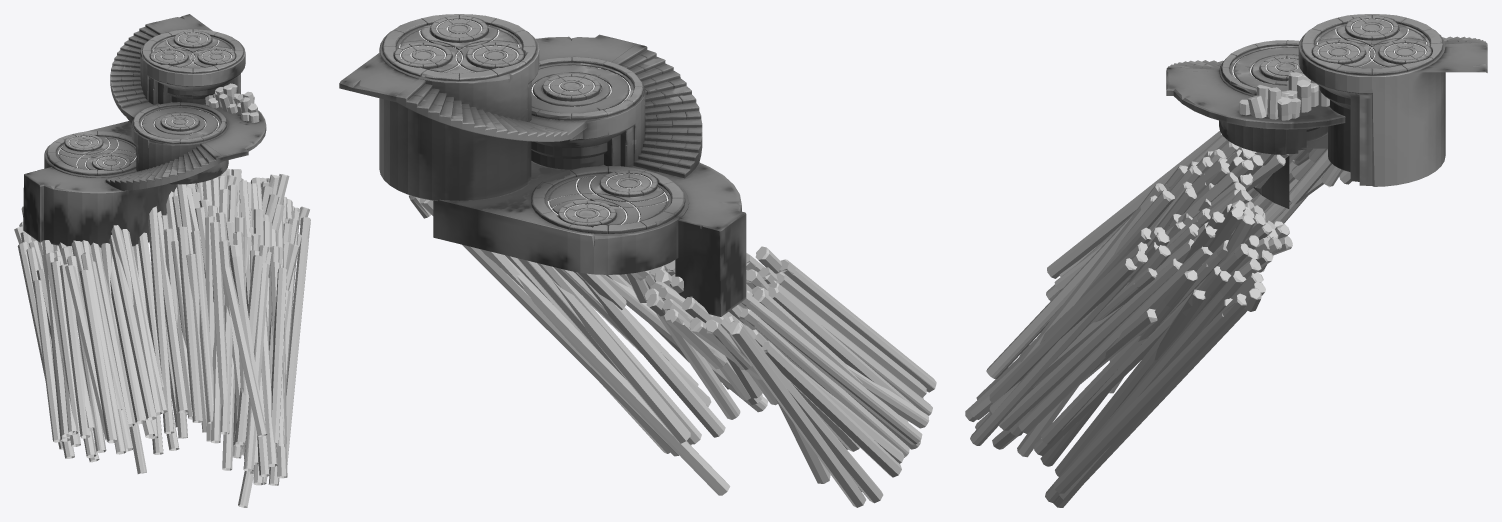
The model's file is Merchant.fbx.
3 renders of one model, left to right at view 1: azimuth 30°, elevation 25°; view 2: azimuth 150°, elevation 25°; view 3: azimuth 270°, elevation 25°, orthographic. The views are drawn at different scales.
Visible parts, largest first — view 1: SM_WaterPlane_03.mo, SM_Merchant_Platform_02.mo, SM_Merchant_Platform_03.mo, SM_Merchant_Platform_01.mo, SM_Merchant_Platform_03_Circle.mo, SM_Merchant_Platform_02_Circle.mo, SM_Merchant_Platform_01_Circle.mo, SM_Waterfall_Rocks_Small_01.mo, SM_Waterfall_Rocks_Small_02.mo; view 2: SM_WaterPlane_03.mo, SM_Merchant_Platform_03.mo, SM_Merchant_Platform_02.mo, SM_Merchant_Platform_01.mo, SM_Merchant_Platform_02_Circle.mo, SM_Merchant_Platform_03_Circle.mo, SM_Merchant_Platform_01_Circle.mo; view 3: SM_WaterPlane_03.mo, SM_Merchant_Platform_03.mo, SM_Merchant_Platform_01.mo, SM_Merchant_Platform_03_Circle.mo, SM_Merchant_Platform_01_Circle.mo, SM_Waterfall_Rocks_Small_02.mo, SM_Merchant_Platform_02.mo, SM_Waterfall_Rocks_Small_01.mo.
Part boxes in pixels (left/top/right/bottom): SM_WaterPlane_03.mo: left=14, top=168, right=310, bottom=507; SM_Merchant_Platform_02.mo: left=23, top=121, right=176, bottom=247; SM_Merchant_Platform_03.mo: left=110, top=14, right=245, bottom=123; SM_Merchant_Platform_01.mo: left=105, top=102, right=266, bottom=190; SM_Merchant_Platform_03_Circle.mo: left=142, top=29, right=243, bottom=73; SM_Merchant_Platform_02_Circle.mo: left=46, top=131, right=136, bottom=175; SM_Merchant_Platform_01_Circle.mo: left=133, top=102, right=226, bottom=143; SM_Waterfall_Rocks_Small_01.mo: left=205, top=83, right=240, bottom=113; SM_Waterfall_Rocks_Small_02.mo: left=236, top=91, right=259, bottom=122; SM_WaterPlane_03.mo: left=409, top=195, right=936, bottom=507; SM_Merchant_Platform_03.mo: left=339, top=30, right=587, bottom=200; SM_Merchant_Platform_02.mo: left=433, top=161, right=746, bottom=316; SM_Merchant_Platform_01.mo: left=531, top=34, right=702, bottom=178; SM_Merchant_Platform_02_Circle.mo: left=531, top=166, right=685, bottom=233; SM_Merchant_Platform_03_Circle.mo: left=382, top=14, right=536, bottom=81; SM_Merchant_Platform_01_Circle.mo: left=531, top=56, right=643, bottom=120; SM_WaterPlane_03.mo: left=965, top=131, right=1351, bottom=507; SM_Merchant_Platform_03.mo: left=1298, top=29, right=1487, bottom=186; SM_Merchant_Platform_01.mo: left=1166, top=60, right=1345, bottom=154; SM_Merchant_Platform_03_Circle.mo: left=1301, top=14, right=1442, bottom=75; SM_Merchant_Platform_01_Circle.mo: left=1221, top=40, right=1315, bottom=95; SM_Waterfall_Rocks_Small_02.mo: left=1239, top=85, right=1300, bottom=120; SM_Merchant_Platform_02.mo: left=1253, top=132, right=1327, bottom=208; SM_Waterfall_Rocks_Small_01.mo: left=1285, top=72, right=1329, bottom=112.
Bounding box in the file's own units: 2002 × 2372 × 2222.
